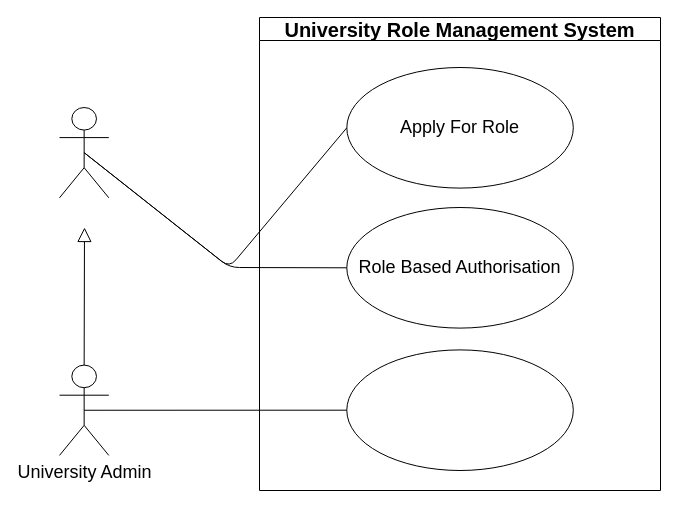
The diagram is 678 pixels wide and 508 high, and some of its shapes have lost their labels. Here are the shapes that lost their labels. From the top down, the centre of each, then its label:
At pixel 83 152: "User".
At pixel 459 409: "Manage Role Applications".
